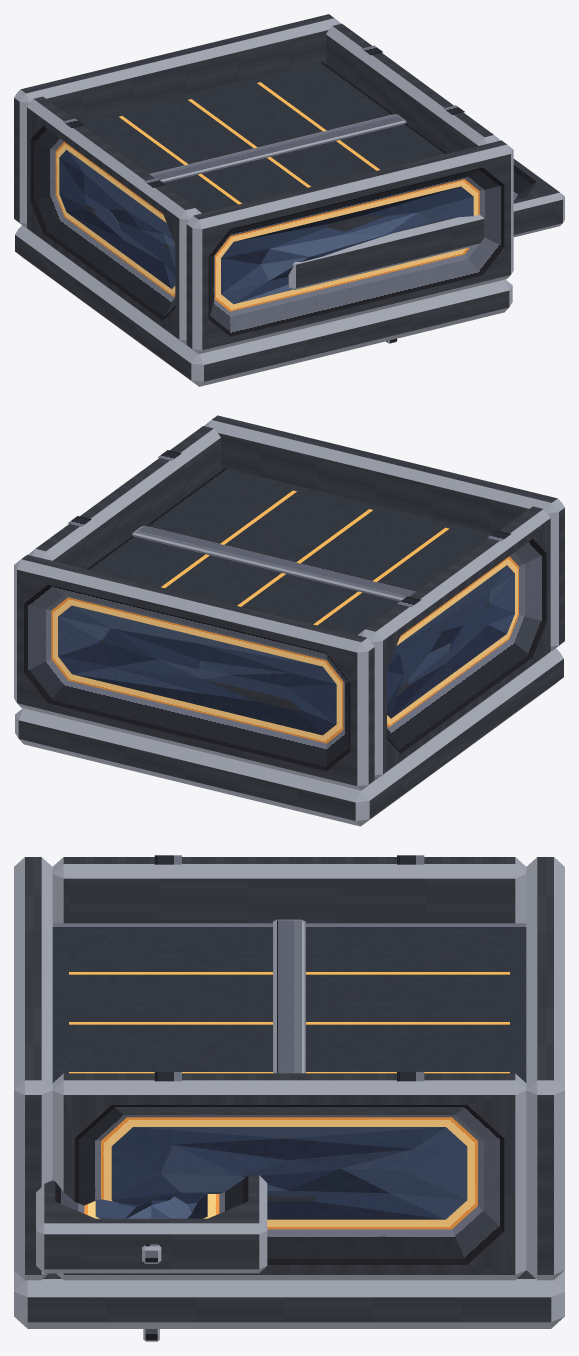
File: marlit_solar.glb
3 views of the same model, one above another, from view 1: azimuth 30°, elevation 25°; view 2: azimuth 150°, elevation 25°; view 3: azimuth 270°, elevation 25° (orthographic). The views are drawn at different scales.
Visible parts, largest first — view 1: marlit_solar_body, marlit_solar_leaf; view 2: marlit_solar_body; view 3: marlit_solar_body, marlit_solar_leaf.
Boxes of the visible parts, <box> form: marlit_solar_body: <box>14,14,513,386</box>; marlit_solar_leaf: <box>288,159,564,289</box>; marlit_solar_body: <box>14,415,564,826</box>; marlit_solar_body: <box>14,855,564,1328</box>; marlit_solar_leaf: <box>36,1175,267,1273</box>.
Bounding box in the file's own units: 2.4 × 1.25 × 2.
Materials: 1 (1 with a texture image).
